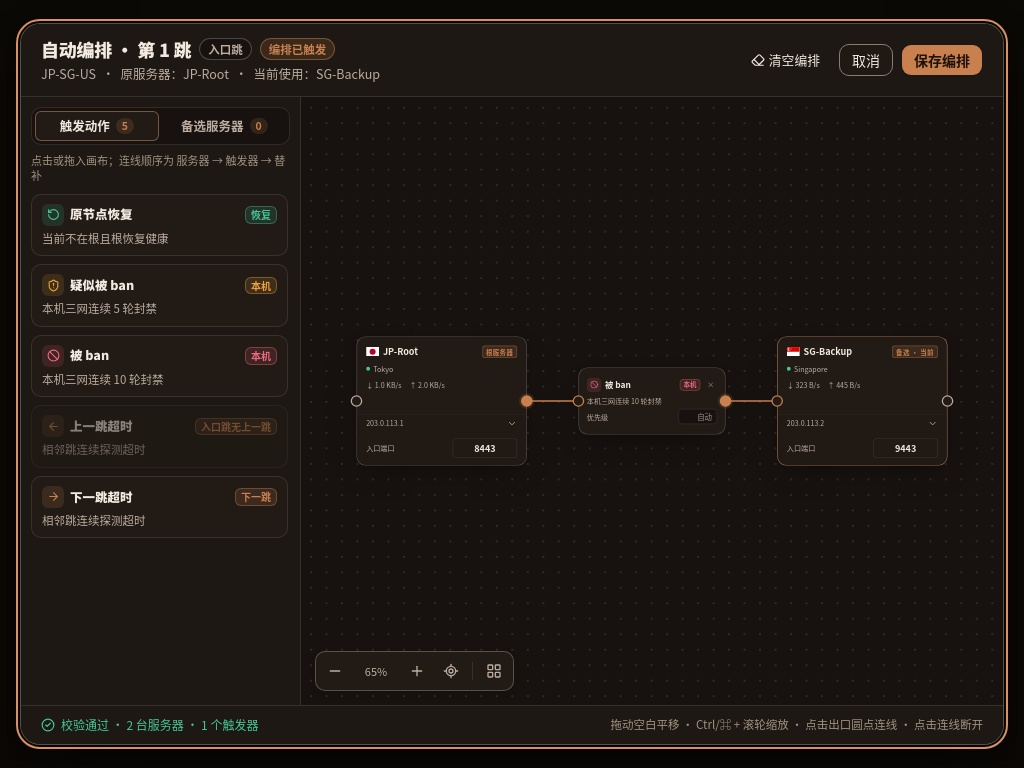
Test: OrchestrationEditor › 展示真实原服务器与当前使用服务器、支持直连端口编辑与备份卡标签
Check: the text with class "is-triggered" reads "编排已触发", box [269,41,326,57]
Click the button with class "cw-node-port-value" showing "8443".
click(485, 448)  # box [453,438,517,458]
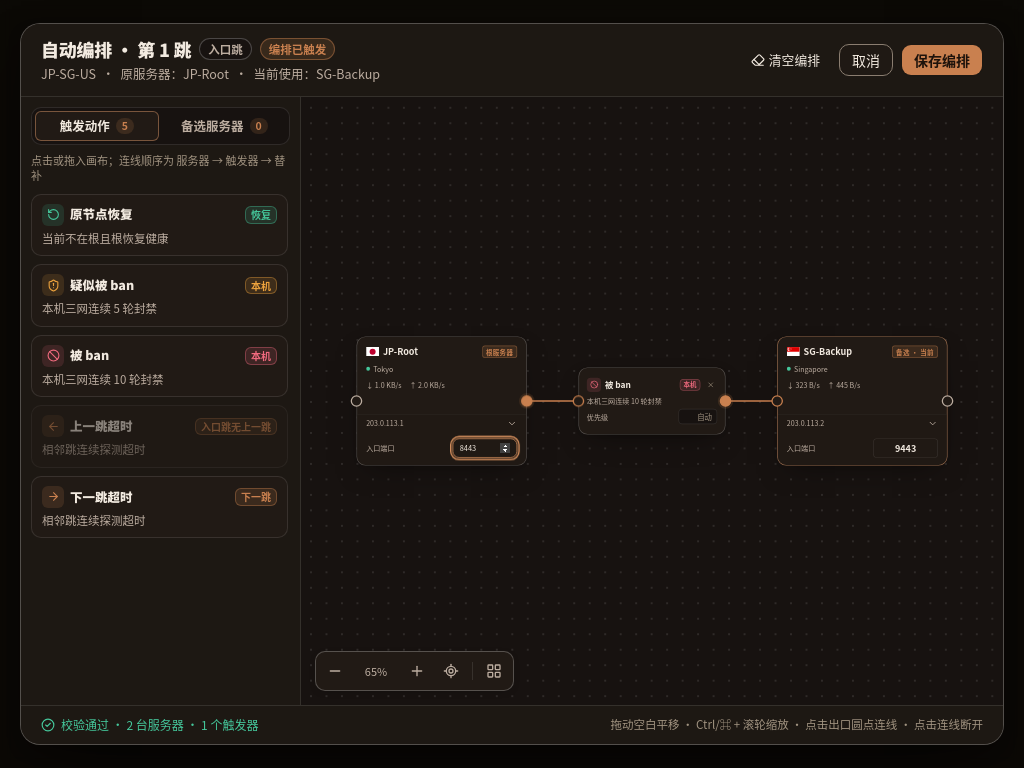
Check: the number field named "入口端口数值：JP-Root" is shown, box [453,438,517,458]
